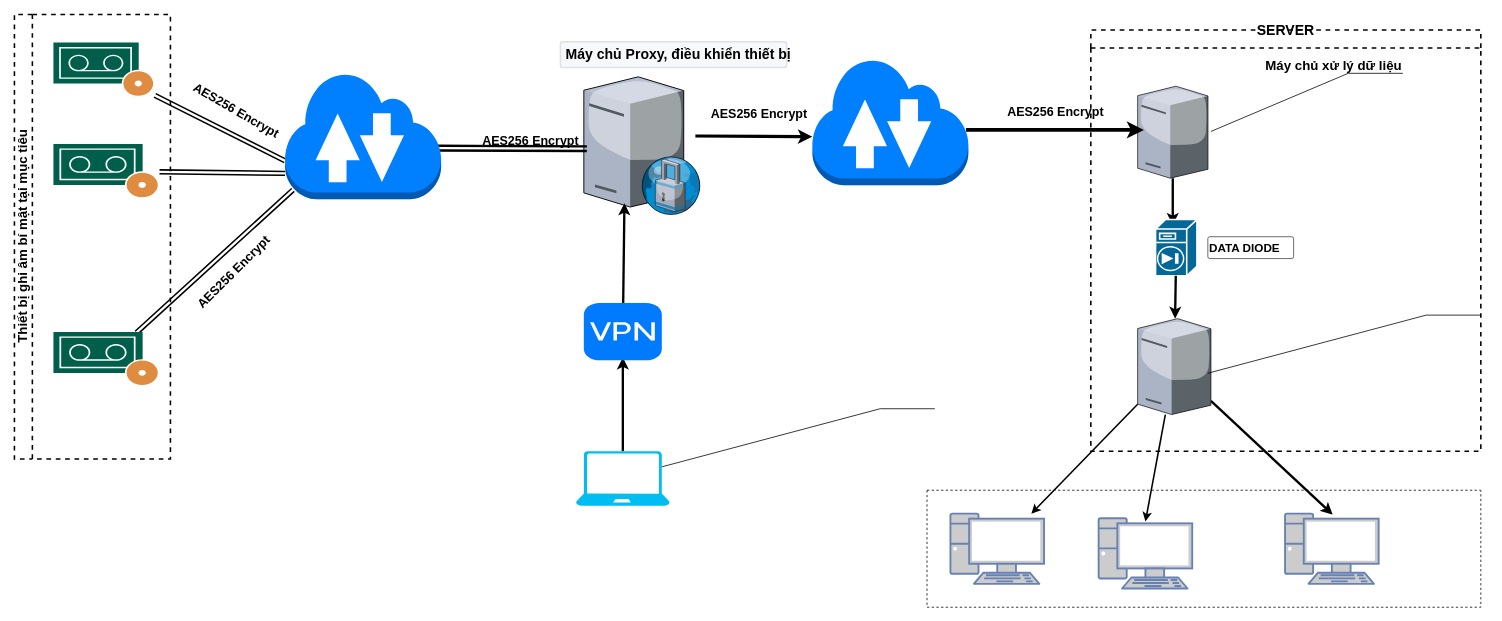
Some shapes in this 1502 by 621 pixel diagram are drawn without their labels. The centre of each missing label's shape, as x and y in pixels:
"Máy chủ giải mã, lưu trữ, quản lý" belongs at [1344,333].
"Máy khai thác" belongs at [1203,548].
"Máy tính điều khiển, cấu hình thiết bị từ xa" belongs at [798,427].
